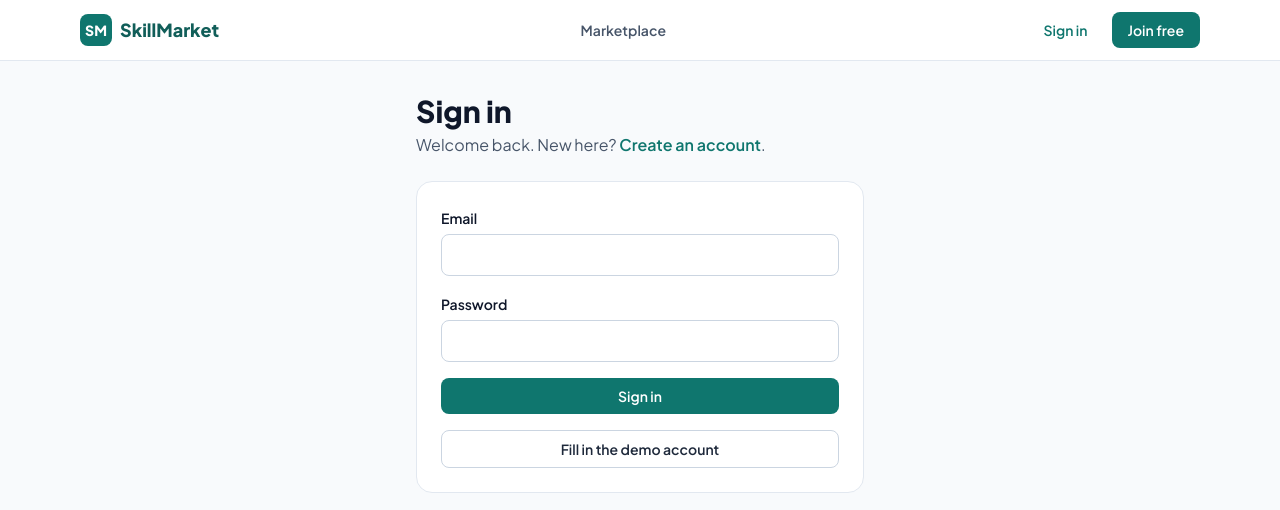
Scenario: authentication › redirects signed-out visitors from protected pages to sign in, then back after login
Check: the heading "Sign in" is shown, box 416,92 -> 512,130
Click the button "Fill in the demo account" at [640, 449], box 441,430 -> 839,468
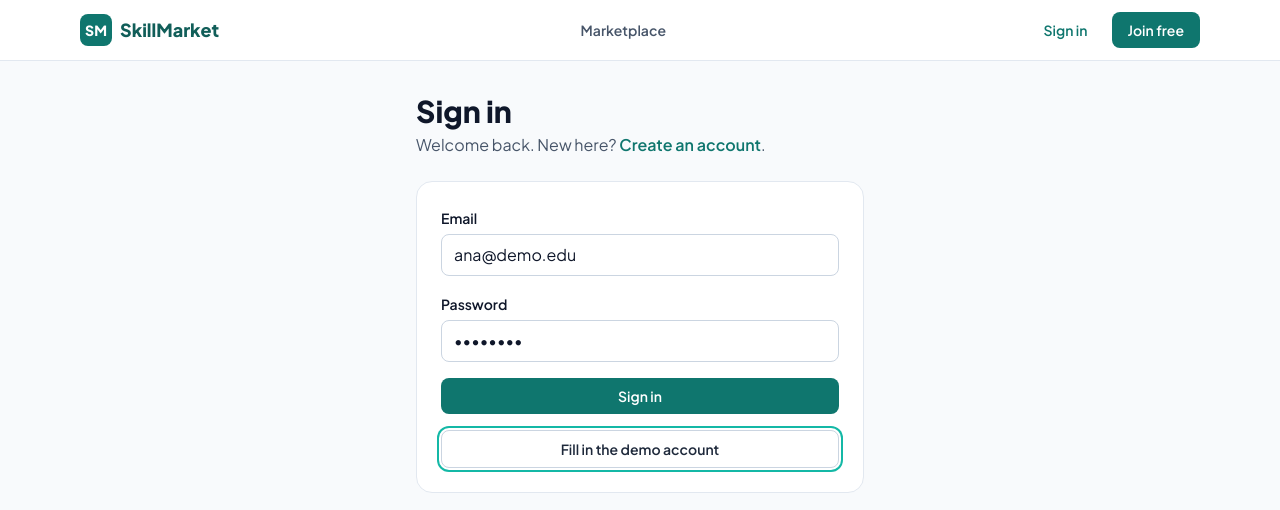
Click the button "Sign in" at [640, 396], box 441,378 -> 839,414
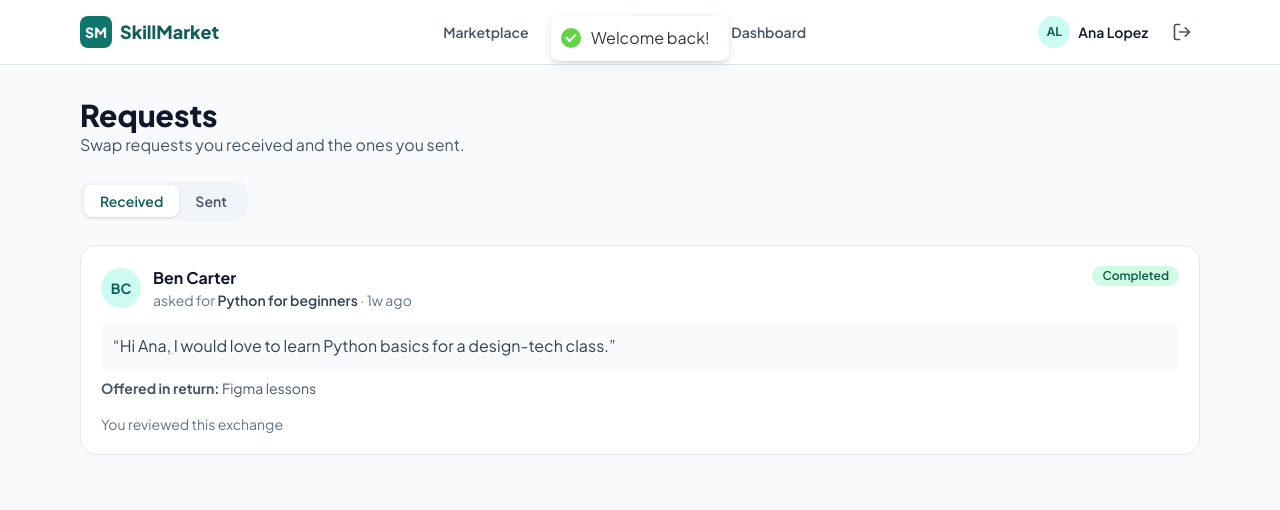
Check: the heading "Requests" is shown, box 80,96 -> 218,134
